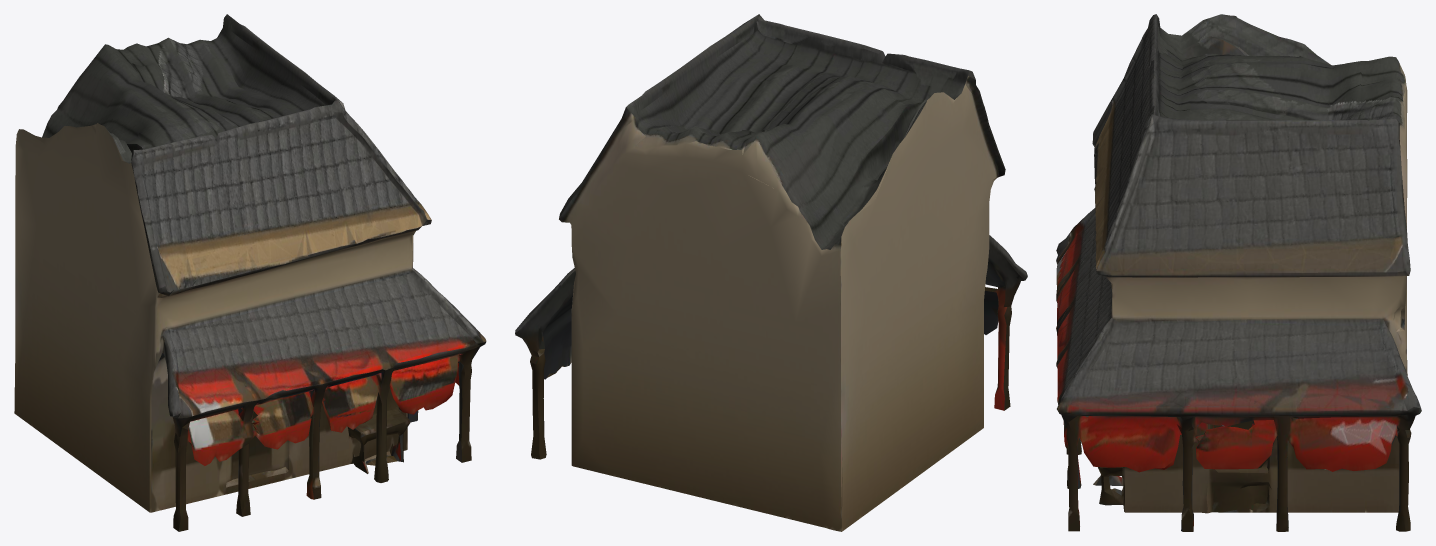
Rendered from guaranies_mision.glb.
3 renders of one model, left to right at view 1: azimuth 30°, elevation 25°; view 2: azimuth 150°, elevation 25°; view 3: azimuth 270°, elevation 25°, orthographic. The views are drawn at different scales.
Parts seen in each view (by area): view 1: geometry_0; view 2: geometry_0; view 3: geometry_0.
Boxes of the visible parts, x1=… form: geometry_0: x1=14, y1=14, x2=486, y2=531; geometry_0: x1=515, y1=14, x2=1027, y2=531; geometry_0: x1=1056, y1=14, x2=1421, y2=531.
Size of the model in its own units: 3.4 by 3.66 by 3.28.
Materials: 1 (1 with a texture image).
